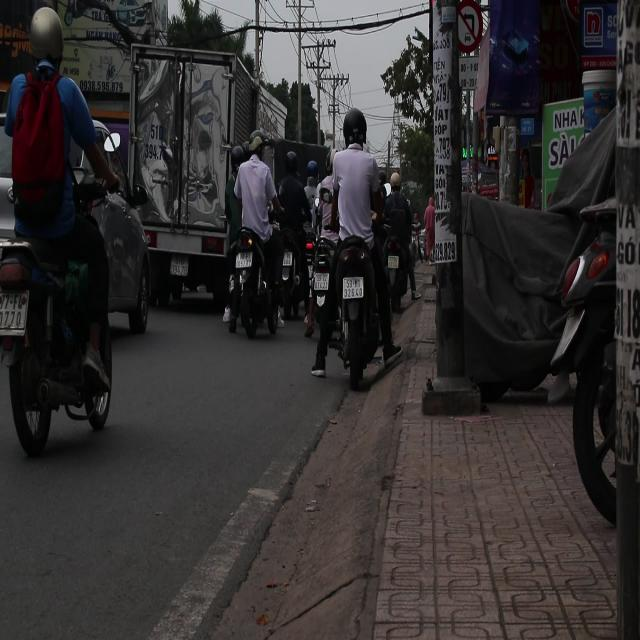motorbike: (0, 195, 116, 457), (318, 225, 390, 392), (226, 228, 280, 340), (270, 218, 314, 328)
truck: (91, 25, 242, 317)
